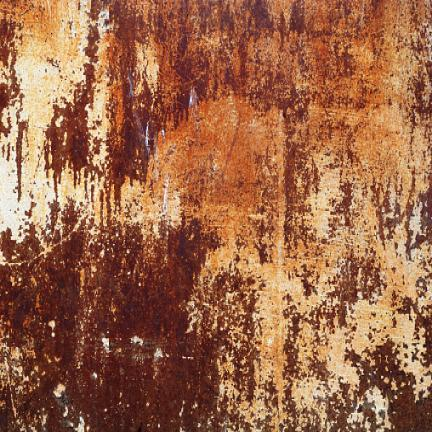karat: (2, 220, 225, 431)
